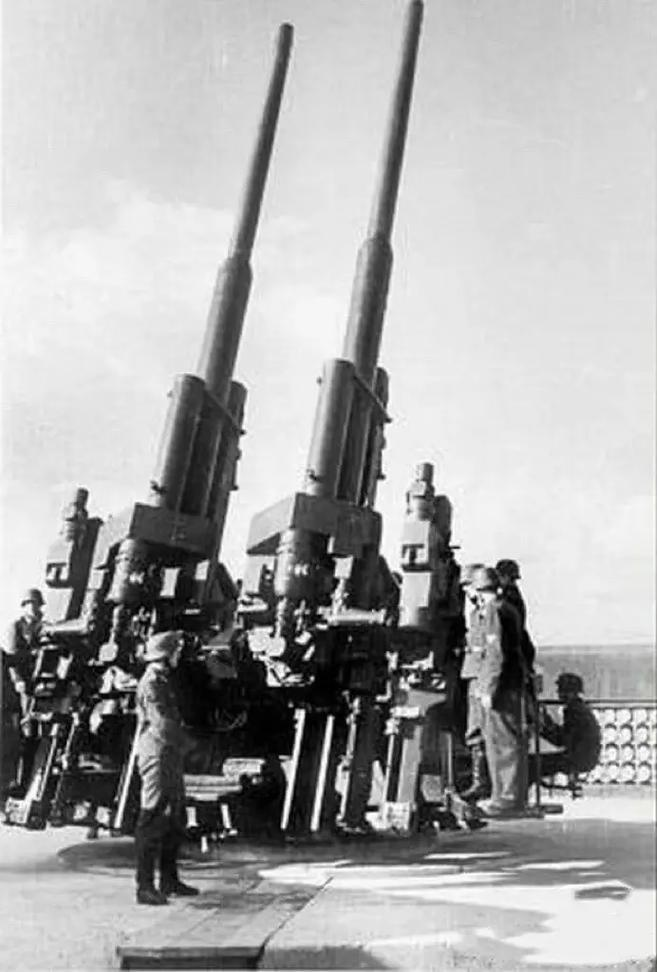MIL_SPG: (8, 0, 477, 835)
